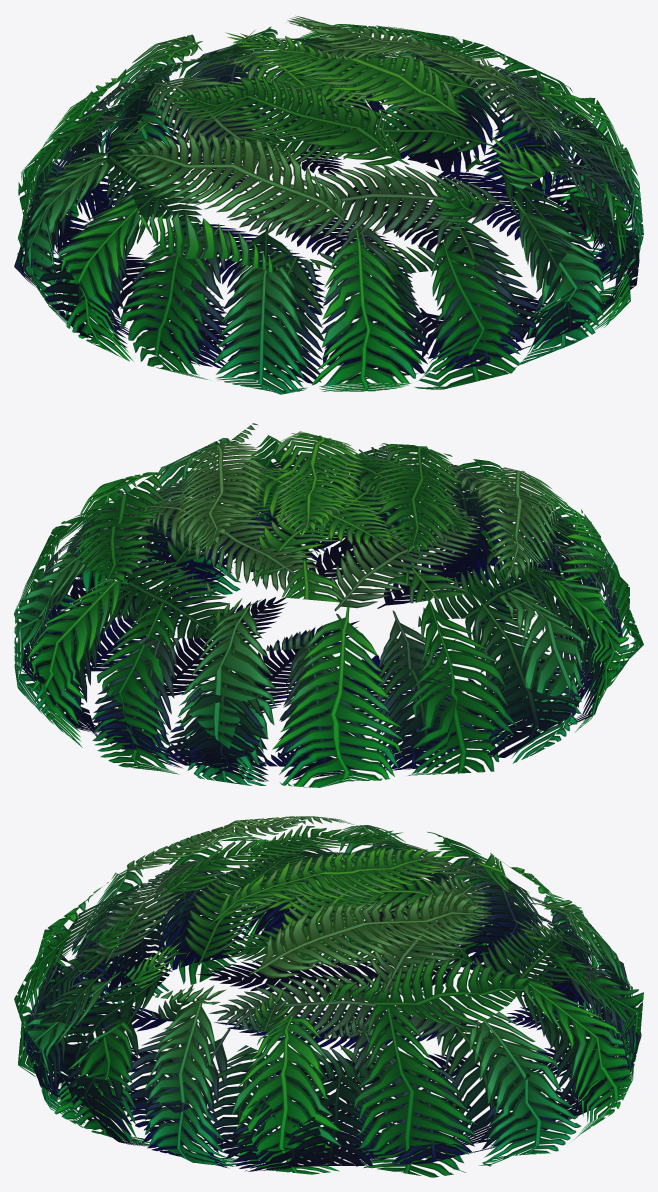
Rendered from SM_Env_Bush_01.glb.
3 renders of one model, top to bottom at view 1: azimuth 30°, elevation 25°; view 2: azimuth 150°, elevation 25°; view 3: azimuth 270°, elevation 25°, orthographic. The views are drawn at different scales.
Parts seen in each view (by area): view 1: SM_Env_Bush_01_LOD0; view 2: SM_Env_Bush_01_LOD0; view 3: SM_Env_Bush_01_LOD0.
Boxes of the visible parts, left/top/right/bottom form: SM_Env_Bush_01_LOD0: left=14, top=15, right=643, bottom=394; SM_Env_Bush_01_LOD0: left=14, top=423, right=643, bottom=787; SM_Env_Bush_01_LOD0: left=14, top=816, right=643, bottom=1177.
Bounding box in the file's own units: 2.09 × 0.813 × 2.12.
Materials: 1 (1 with a texture image).
